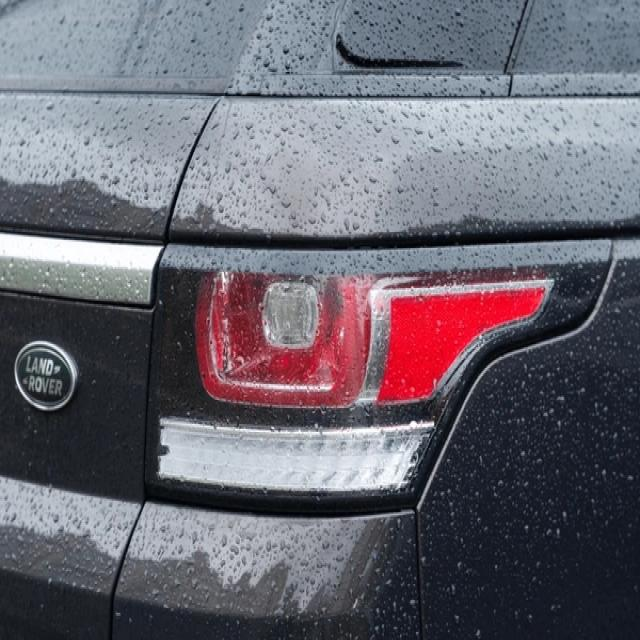landrover: (13, 341, 80, 413)
